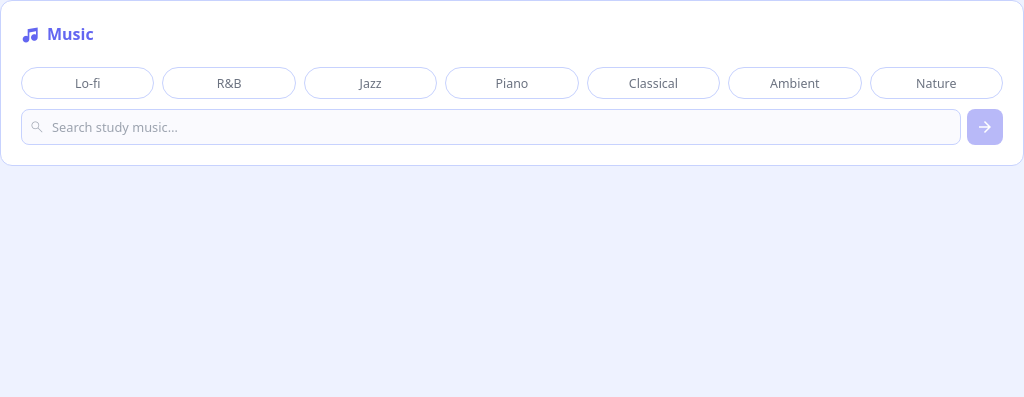
StudyVibeMusic › shuffle button › shows shuffle button when the pool has more than 3 results
Step 1. Click the button "Lo-fi" → [88, 83], box [21,67,154,99]
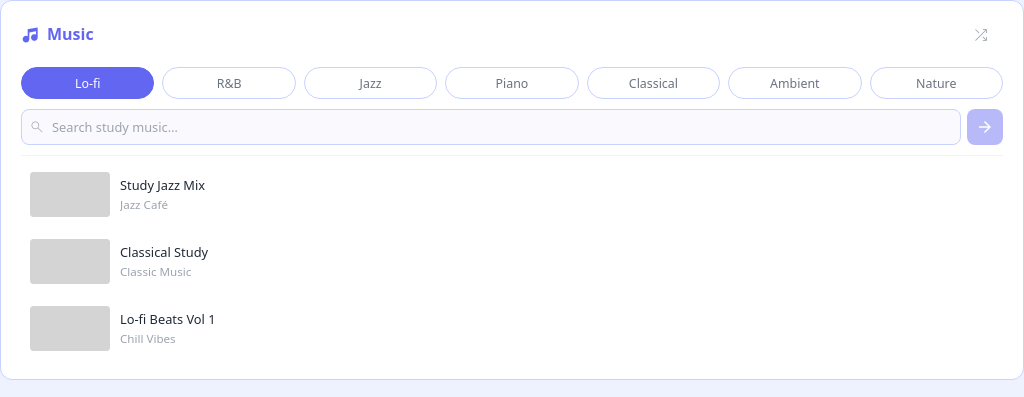
Expected: the button named "shuffle results" is shown, [959,13,1003,57]
